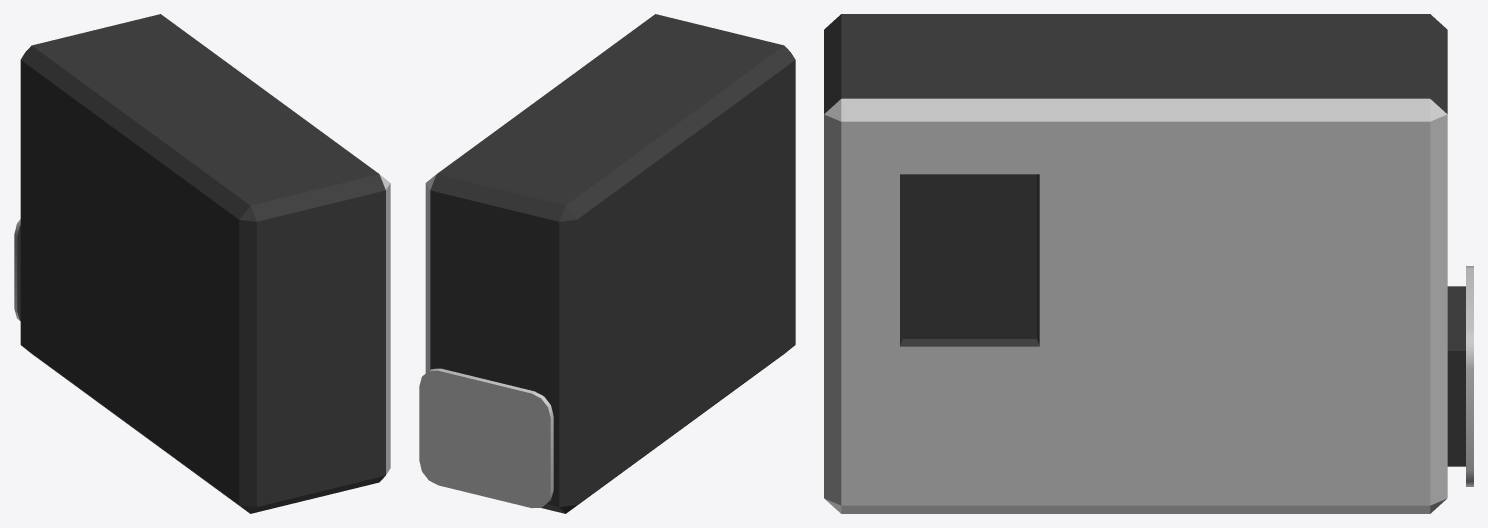
Rendered from camHoldPitch.dae.
3 views of the same model, side by side, from view 1: azimuth 30°, elevation 25°; view 2: azimuth 150°, elevation 25°; view 3: azimuth 270°, elevation 25° (orthographic). The views are drawn at different scales.
Parts seen in each view (by area): view 1: 立方体.004; view 2: 立方体.004; view 3: 立方体.004.
Boxes of the visible parts, x1,y1,x2,y2 form: 立方体.004: (14,14,390,513); 立方体.004: (419,14,795,513); 立方体.004: (824,14,1473,513).
Bounding box in the file's own units: 0.0279 × 0.0772 × 0.0544.
Materials: 1 (1 with a texture image).
